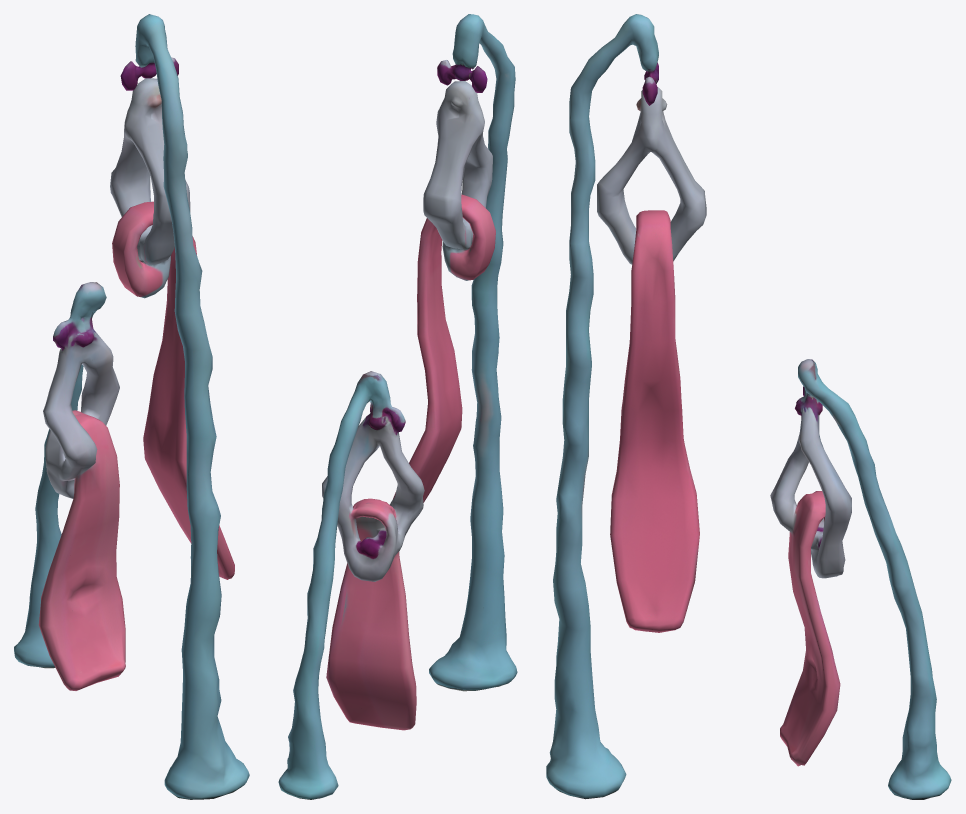
The model's file is 508013b3-dd3f-490e-8d54-65bafb9dc3df.glb.
3 renders of one model, left to right at view 1: azimuth 30°, elevation 25°; view 2: azimuth 150°, elevation 25°; view 3: azimuth 270°, elevation 25°, orthographic. The views are drawn at different scales.
Visible parts, largest first — view 1: tripo_node_ac5fd269-0273-456a-a49d-d30b56eaf4dd; view 2: tripo_node_ac5fd269-0273-456a-a49d-d30b56eaf4dd; view 3: tripo_node_ac5fd269-0273-456a-a49d-d30b56eaf4dd.
Part boxes in pixels (x1,y1,x2,y2): tripo_node_ac5fd269-0273-456a-a49d-d30b56eaf4dd: (14, 14, 249, 799); tripo_node_ac5fd269-0273-456a-a49d-d30b56eaf4dd: (278, 14, 517, 799); tripo_node_ac5fd269-0273-456a-a49d-d30b56eaf4dd: (546, 14, 951, 799).
Bounding box in the file's own units: 0.1507 × 1 × 0.4853.
Materials: 1 (1 with a texture image).
